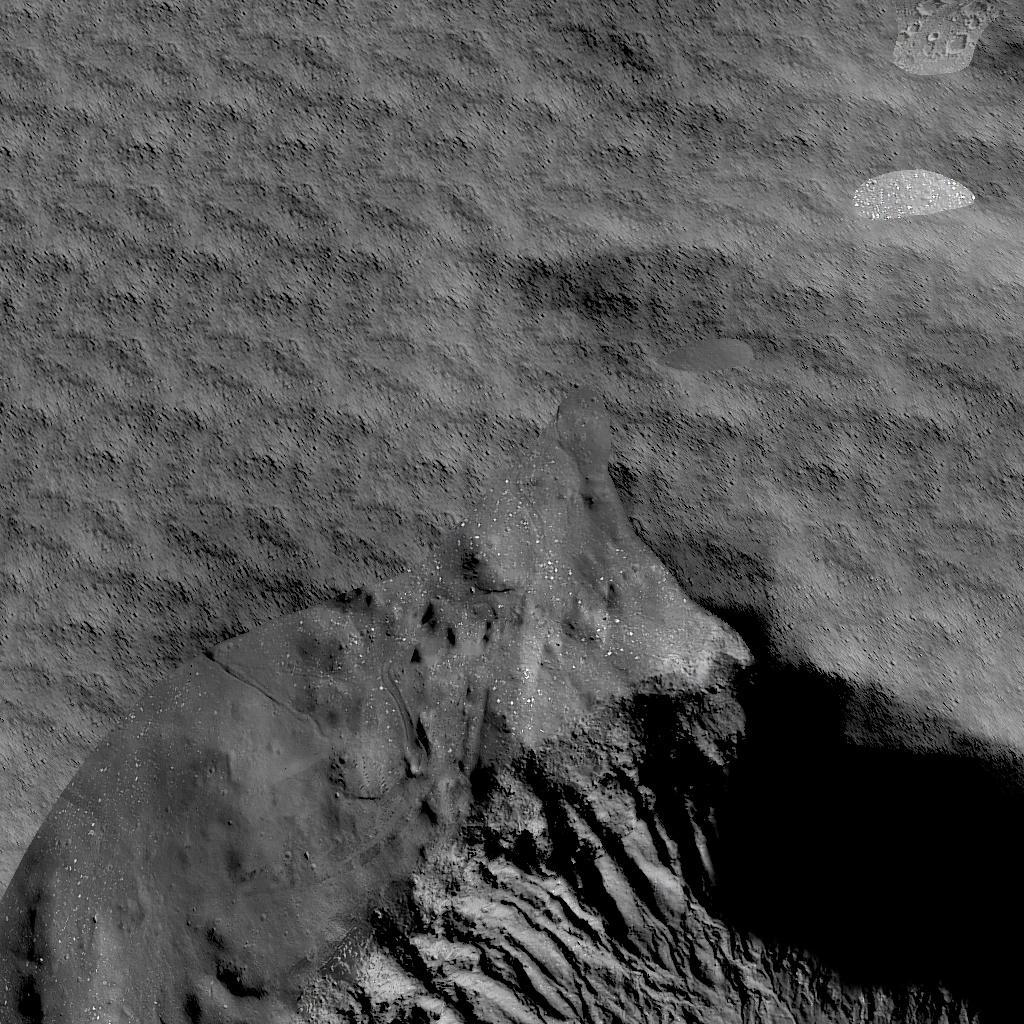Crater: (6, 245, 1024, 1024)
Plan surface: (4, 0, 840, 228)
